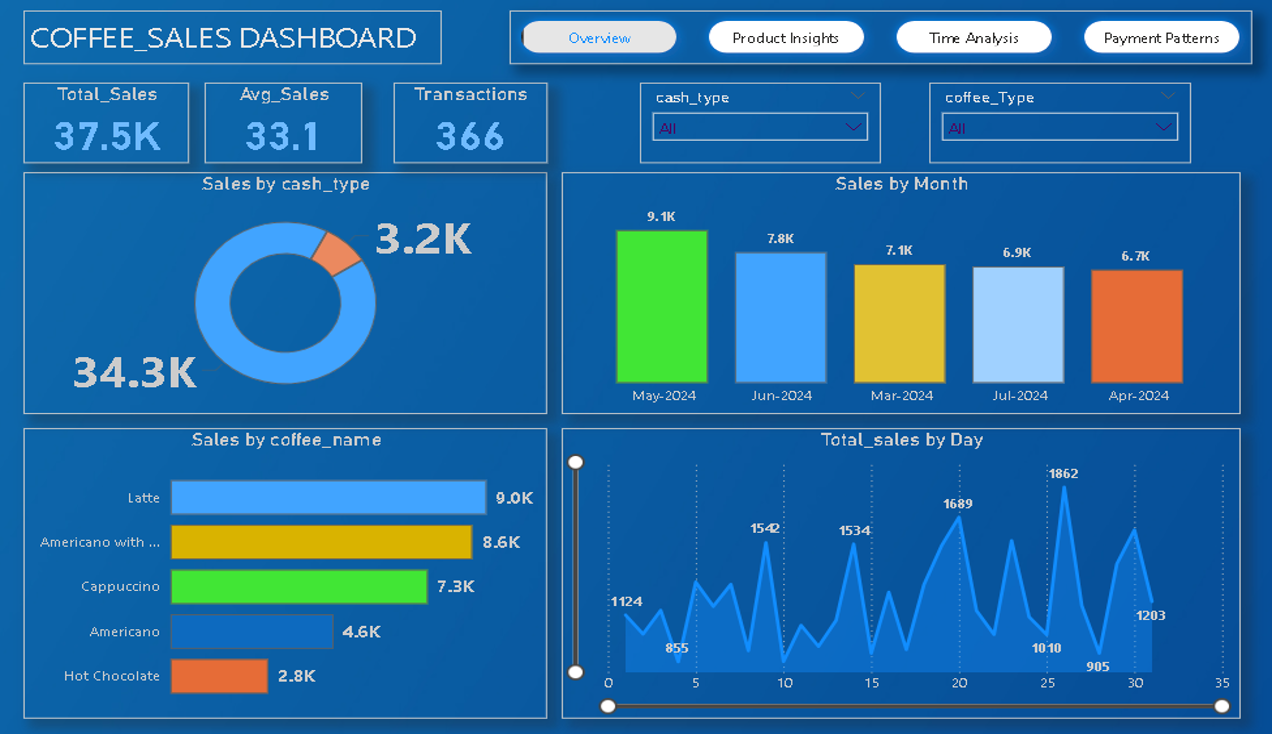

This screenshot's page, from the dashboard's own definition file:
{"tool":"powerbi","page":{"name":"Overview","canvas":[1280,720],"ordinal":0},"visuals":[{"type":"slicer","fields":{"Values":["Coffee sales.coffee_name"]},"box":[861.8,86.6,226.1,77.6],"z":0},{"type":"card","title":"Total_Sales","fields":{"Values":["Measure.Total_sale"]},"box":[79.9,86.6,142.9,77.6],"z":1000},{"type":"donutChart","title":"Sales by cash_type","fields":{"Category":["Coffee sales.cash_type"],"Y":["Measure.Total_sales"]},"box":[79.9,173.2,452.2,234],"z":2000},{"type":"card","title":"Avg_Sales","fields":{"Values":["Measure.Avg_sales"]},"box":[236.2,86.6,136.1,77.6],"z":3000},{"type":"card","title":"Transactions","fields":{"Values":["Measure.Total Transactions"]},"box":[399.4,86.6,132.8,77.6],"z":4000},{"type":"columnChart","title":"Sales by Month","fields":{"Y":["Measure.Total_sales"],"Category":["Coffee sales.Month"]},"box":[544.5,173.2,586.1,234],"z":5000},{"type":"barChart","title":"Sales by coffee_name","fields":{"Y":["Measure.Total_sales"],"Category":["Coffee sales.coffee_name"]},"box":[79.9,420.8,452.2,281.2],"z":6000},{"type":"lineChart","fields":{"Y":["Measure.Total_sales"],"Category":["Coffee sales.Day"]},"box":[544.5,420.8,586.1,281.2],"z":7000},{"type":"textbox","box":[79.9,16.9,361.1,51.8],"z":8000},{"type":"slicer","fields":{"Values":["Coffee sales.cash_type"]},"box":[612,86.6,208.1,77.6],"z":9000},{"type":"pageNavigator","box":[499.5,16.9,641.2,51.8],"z":9001}]}

Visuals, with their boxes in screenshot pixels (x1, y1, x2, y2), scaled from the page's 1280x720 canvas onto the 1272x734 screenshot:
slicer - Coffee sales.coffee_name: bbox(856, 88, 1081, 167)
"Total_Sales" card: bbox(79, 88, 221, 167)
"Sales by cash_type" donutChart: bbox(79, 177, 529, 415)
"Avg_Sales" card: bbox(235, 88, 370, 167)
"Transactions" card: bbox(397, 88, 529, 167)
"Sales by Month" columnChart: bbox(541, 177, 1124, 415)
"Sales by coffee_name" barChart: bbox(79, 429, 529, 716)
lineChart - Measure.Total_sales x Coffee sales.Day: bbox(541, 429, 1124, 716)
textbox: bbox(79, 17, 438, 70)
slicer - Coffee sales.cash_type: bbox(608, 88, 815, 167)
pageNavigator: bbox(496, 17, 1134, 70)
